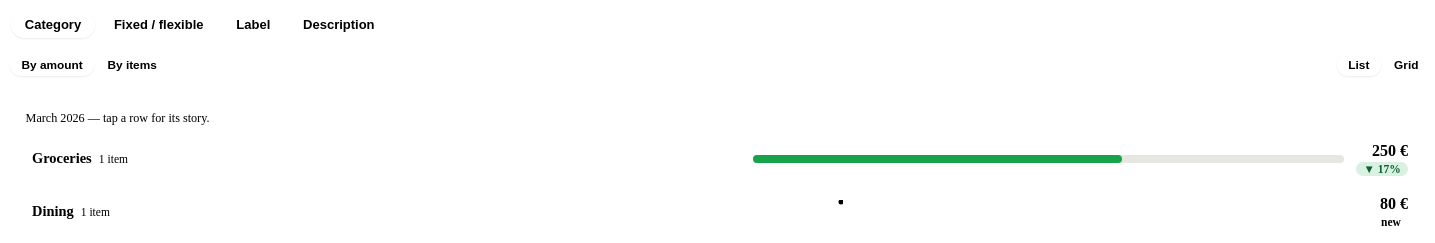
it: SpendingView › regroups by label, counting only labelled spend
Click the radio button labelled "Label" at {"x": 253, "y": 25}, box x1=223 y1=11 x2=284 y2=38
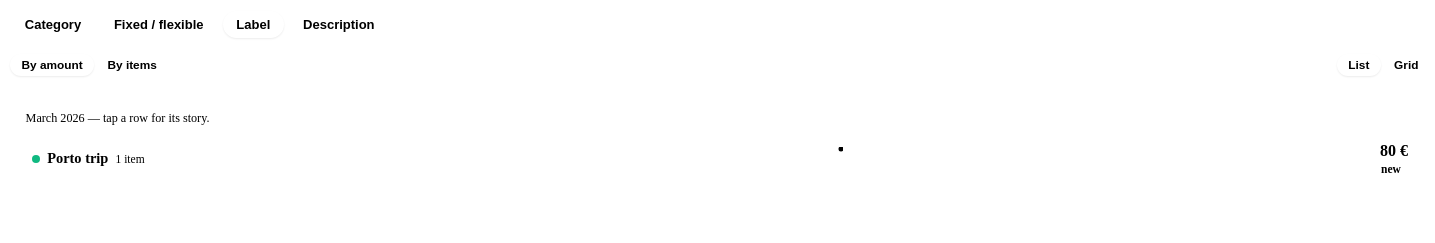
Check: the text "Porto trip" is shown, box x1=47 y1=150 x2=108 y2=167
Check: the button "Groceries" is gone
